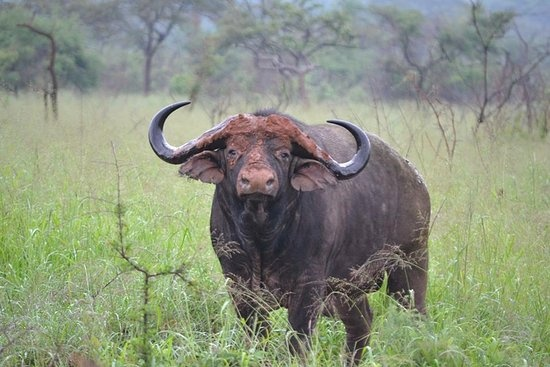buffalo: (146, 95, 444, 367)
